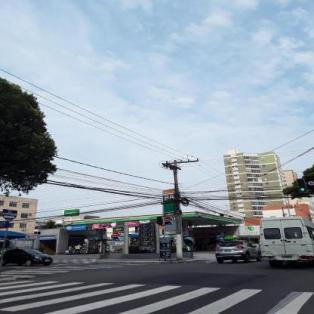Poste: (173, 160, 184, 260)
